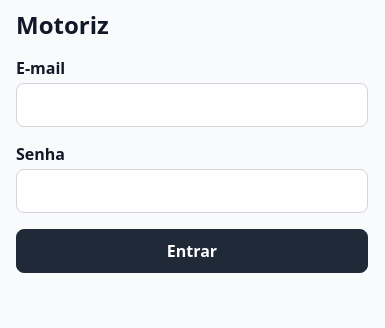
Test: Entrar › mostra a mensagem da API quando o login falha
In the field labelled "E-mail": (192, 105) [16,83,368,127], type "ana@x.com"
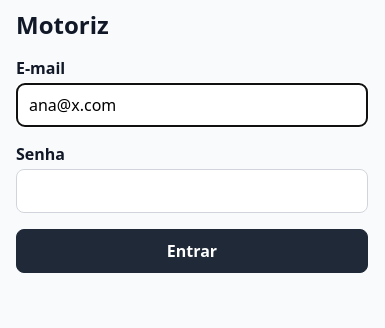
In the password field labelled "Senha": (192, 191) [16,169,368,213], type "errada-errada"
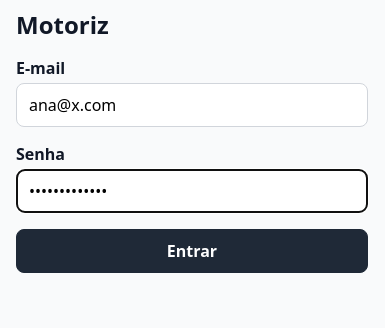
Click the button "Entrar": (192, 251) [16,229,368,273]
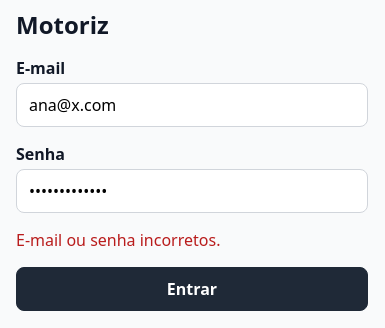
Now the text "E-mail ou senha incorretos." is shown, box [16,229,220,251]
